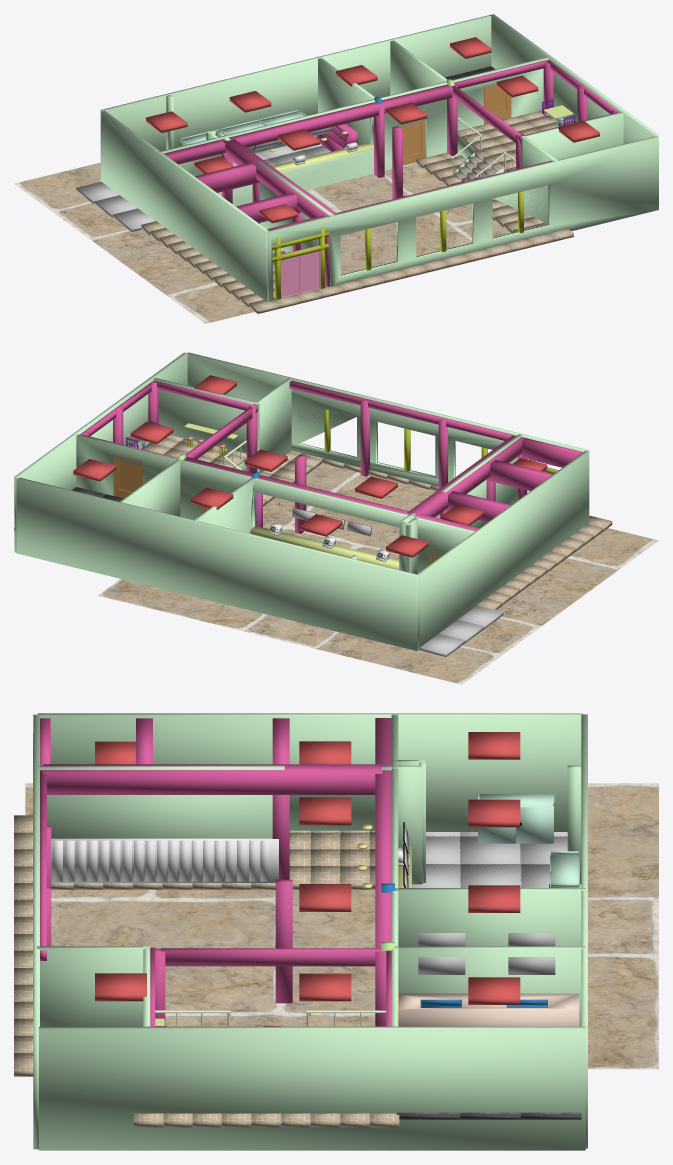
Rendered from restaurant.dae.
The picture shows the model from 3 angles, top to bottom: view 1: azimuth 30°, elevation 25°; view 2: azimuth 150°, elevation 25°; view 3: azimuth 270°, elevation 25°; orthographic projection. The views are drawn at different scales.
Visible parts, largest first — view 1: Wall07, Plane, Box38, Box439, PivotDoor04, PivotDoor01, PivotDoor02, Box02.001, Warm_Food_Storage_unit, Box459, Box455, Box458 (+9 smaller); view 2: Wall07, Plane, Box38, Box02.001, PivotDoor02, Box439, Box368, Box459, Box455, Box453, Box458, Box456 (+6 smaller); view 3: Wall07, Plane, Box38, Box07, Box06.001, Box546, Box457, Box459, Box455, Box462, Box458, Box456 (+16 smaller).
Part boxes in pixels (x1,y1,x2,y2): Wall07: (100,14,658,301); Plane: (14,162,510,323); Box38: (164,60,619,299); Box439: (272,191,523,299); PivotDoor04: (281,245,320,298); PivotDoor01: (400,121,425,165); PivotDoor02: (484,85,511,123); Box02.001: (272,142,373,171); Warm_Food_Storage_unit: (316,124,357,151); Box459: (496,75,538,97); Box455: (229,91,271,112); Box458: (385,102,427,124); Wall07: (14,352,589,650); Plane: (97,463,658,684); Box38: (80,380,583,533); Box02.001: (250,525,399,569); PivotDoor02: (113,454,142,498); Box439: (324,409,558,491); Box368: (418,633,465,656); Box459: (130,421,173,443); Box455: (299,514,342,536); Box453: (73,459,116,481); Box458: (244,449,287,471); Box456: (386,535,428,557); Wall07: (33,713,587,1150); Plane: (25,783,658,1069); Box38: (40,718,391,1026); Box07: (398,993,579,1026); Box06.001: (51,838,278,882); Box546: (478,791,554,843); Box457: (299,797,351,825); Box459: (299,973,351,1001); Box455: (468,799,520,827); Box462: (95,973,146,1001); Box458: (299,884,351,911); Box456: (468,732,520,759).
Bounding box in the file's own units: 646 × 468 × 108.
